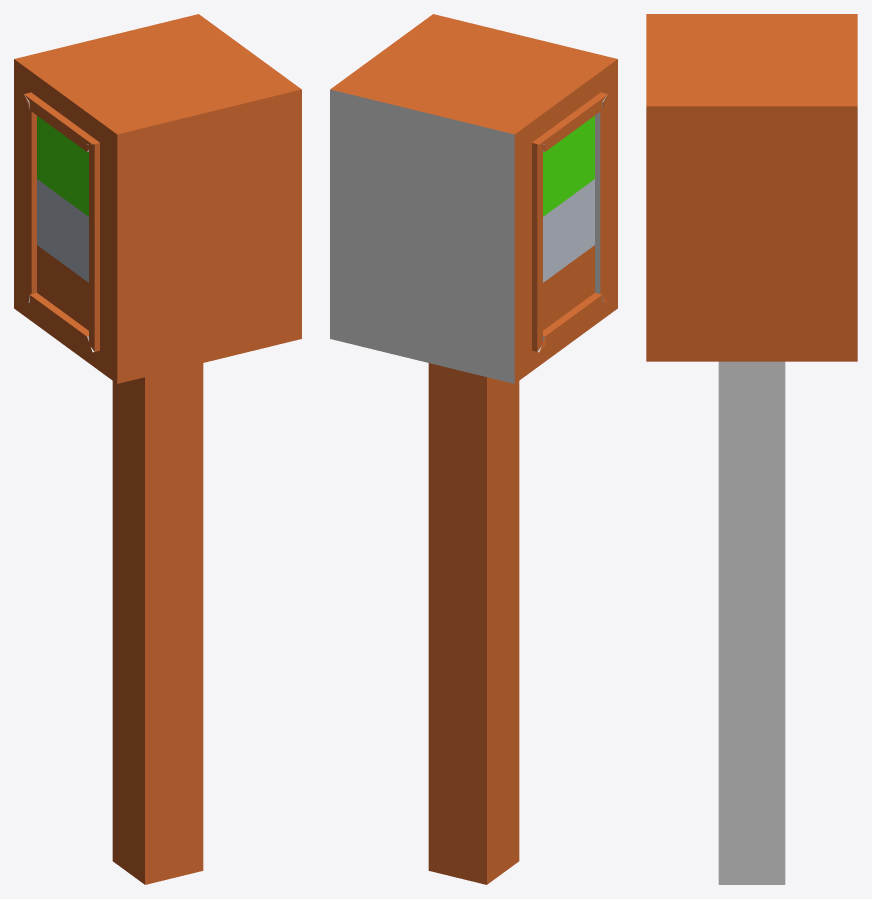
The model's file is Detector de tarjeta.fbx.
The picture shows the model from 3 angles, left to right: view 1: azimuth 30°, elevation 25°; view 2: azimuth 150°, elevation 25°; view 3: azimuth 270°, elevation 25°; orthographic projection. The views are drawn at different scales.
Visible parts, largest first — view 1: Cube.023; view 2: Cube.023; view 3: Cube.023.
Boxes of the visible parts, x1,y1,x2,y2 form: Cube.023: (14,14,301,884); Cube.023: (330,14,617,884); Cube.023: (646,14,857,884).
Size of the model in its own units: 131 by 513 by 121.
